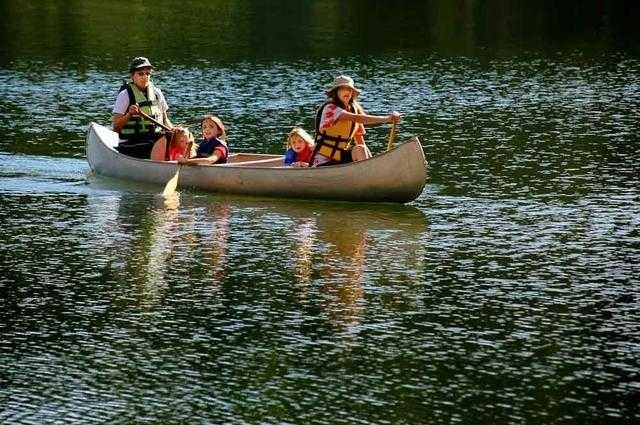kayak: (86, 122, 429, 204)
